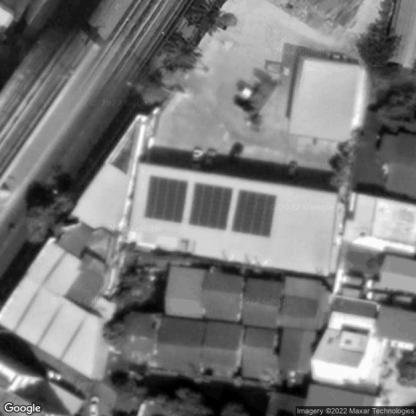solar-pv-panel: (189, 182, 235, 232), (232, 189, 278, 237), (146, 174, 189, 223)
